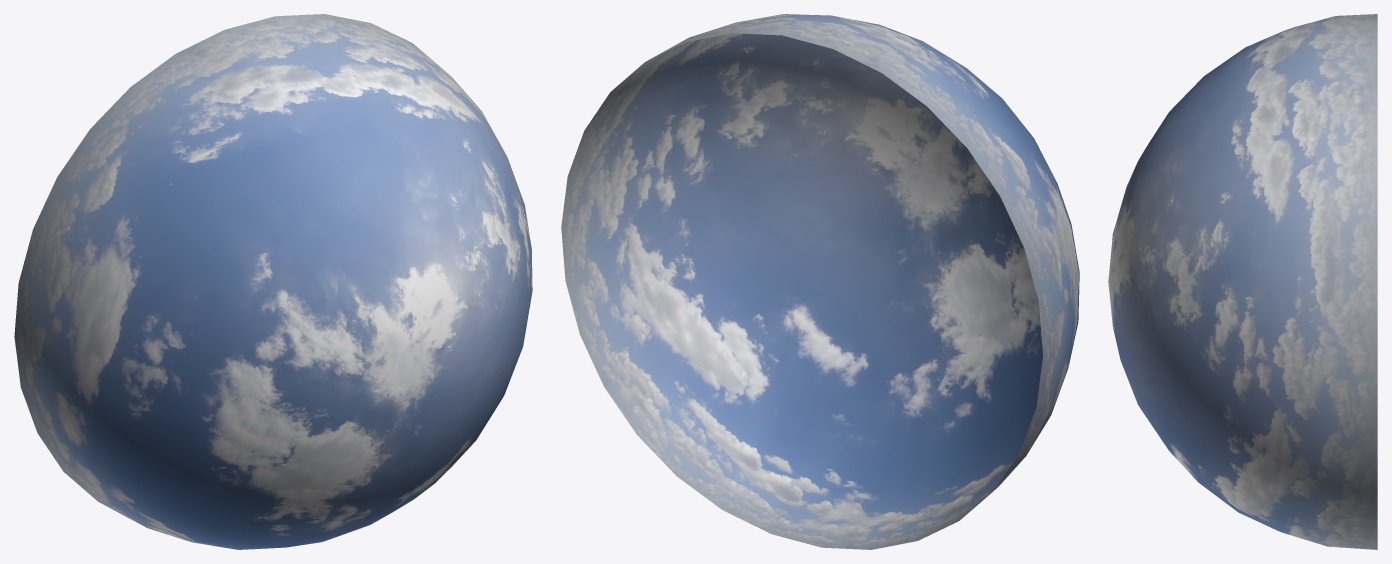
Rendered from sky_normal_res.obj.
The picture shows the model from 3 angles, left to right: view 1: azimuth 30°, elevation 25°; view 2: azimuth 150°, elevation 25°; view 3: azimuth 270°, elevation 25°; orthographic projection. The views are drawn at different scales.
Visible parts, largest first — view 1: partly_cloudy; view 2: partly_cloudy; view 3: partly_cloudy.
Part boxes in pixels (<box>): partly_cloudy: <box>14,14,532,549</box>; partly_cloudy: <box>561,14,1079,549</box>; partly_cloudy: <box>1108,14,1377,549</box>.
Size of the model in its own units: 200 by 199 by 100.
1 material, 1 textured.
